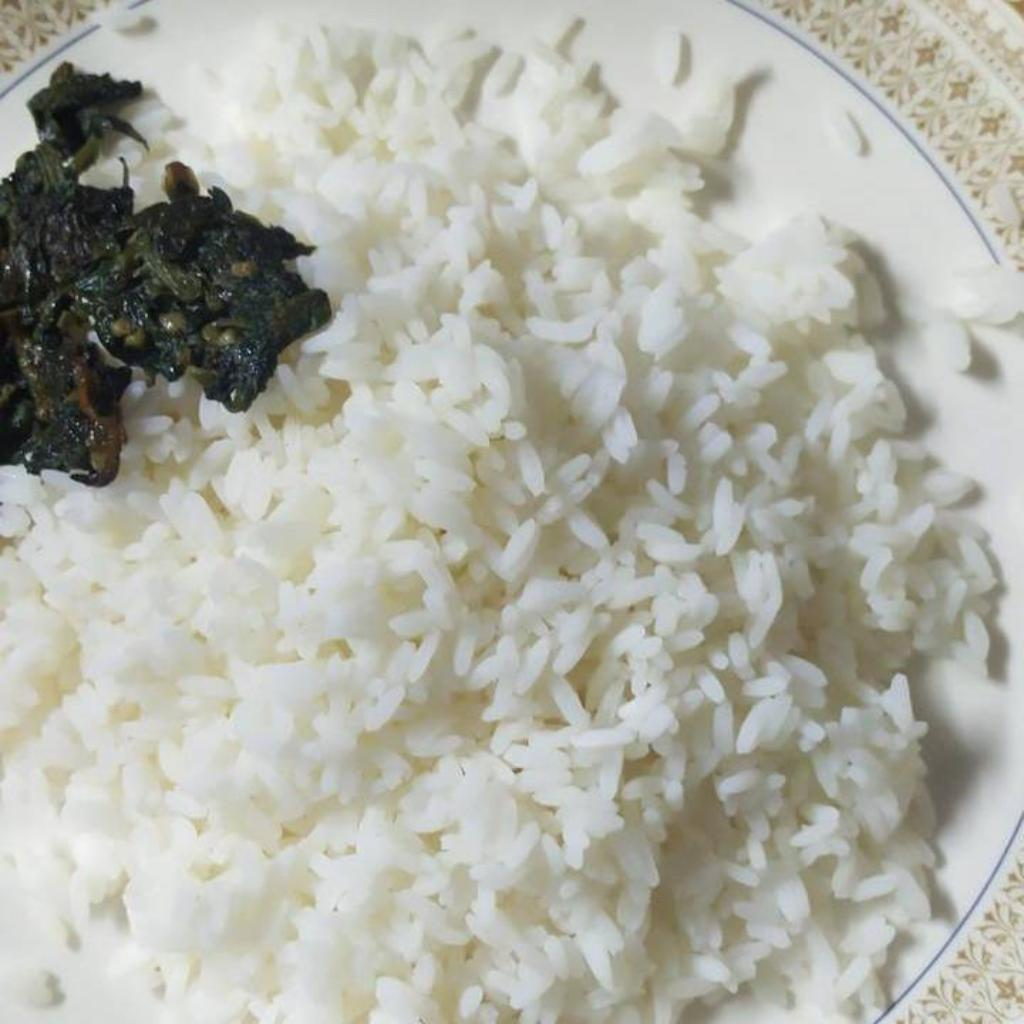rice: (2, 22, 1010, 1023)
shak: (0, 60, 339, 488)
